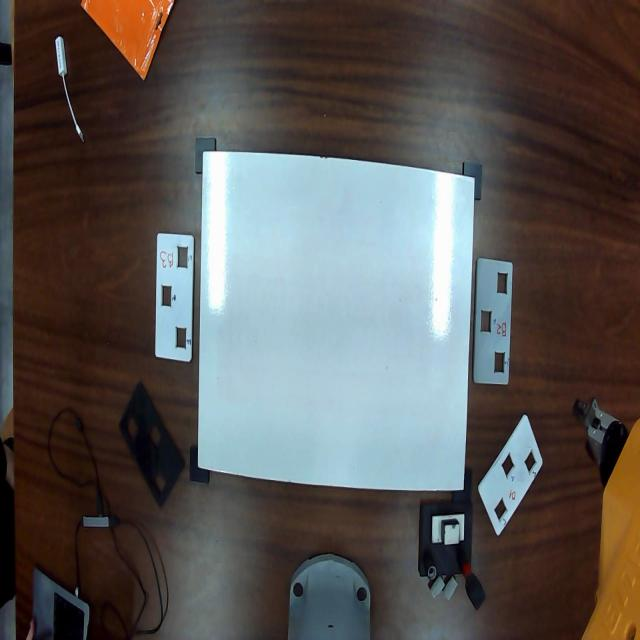default_frame: (198, 151, 475, 490)
